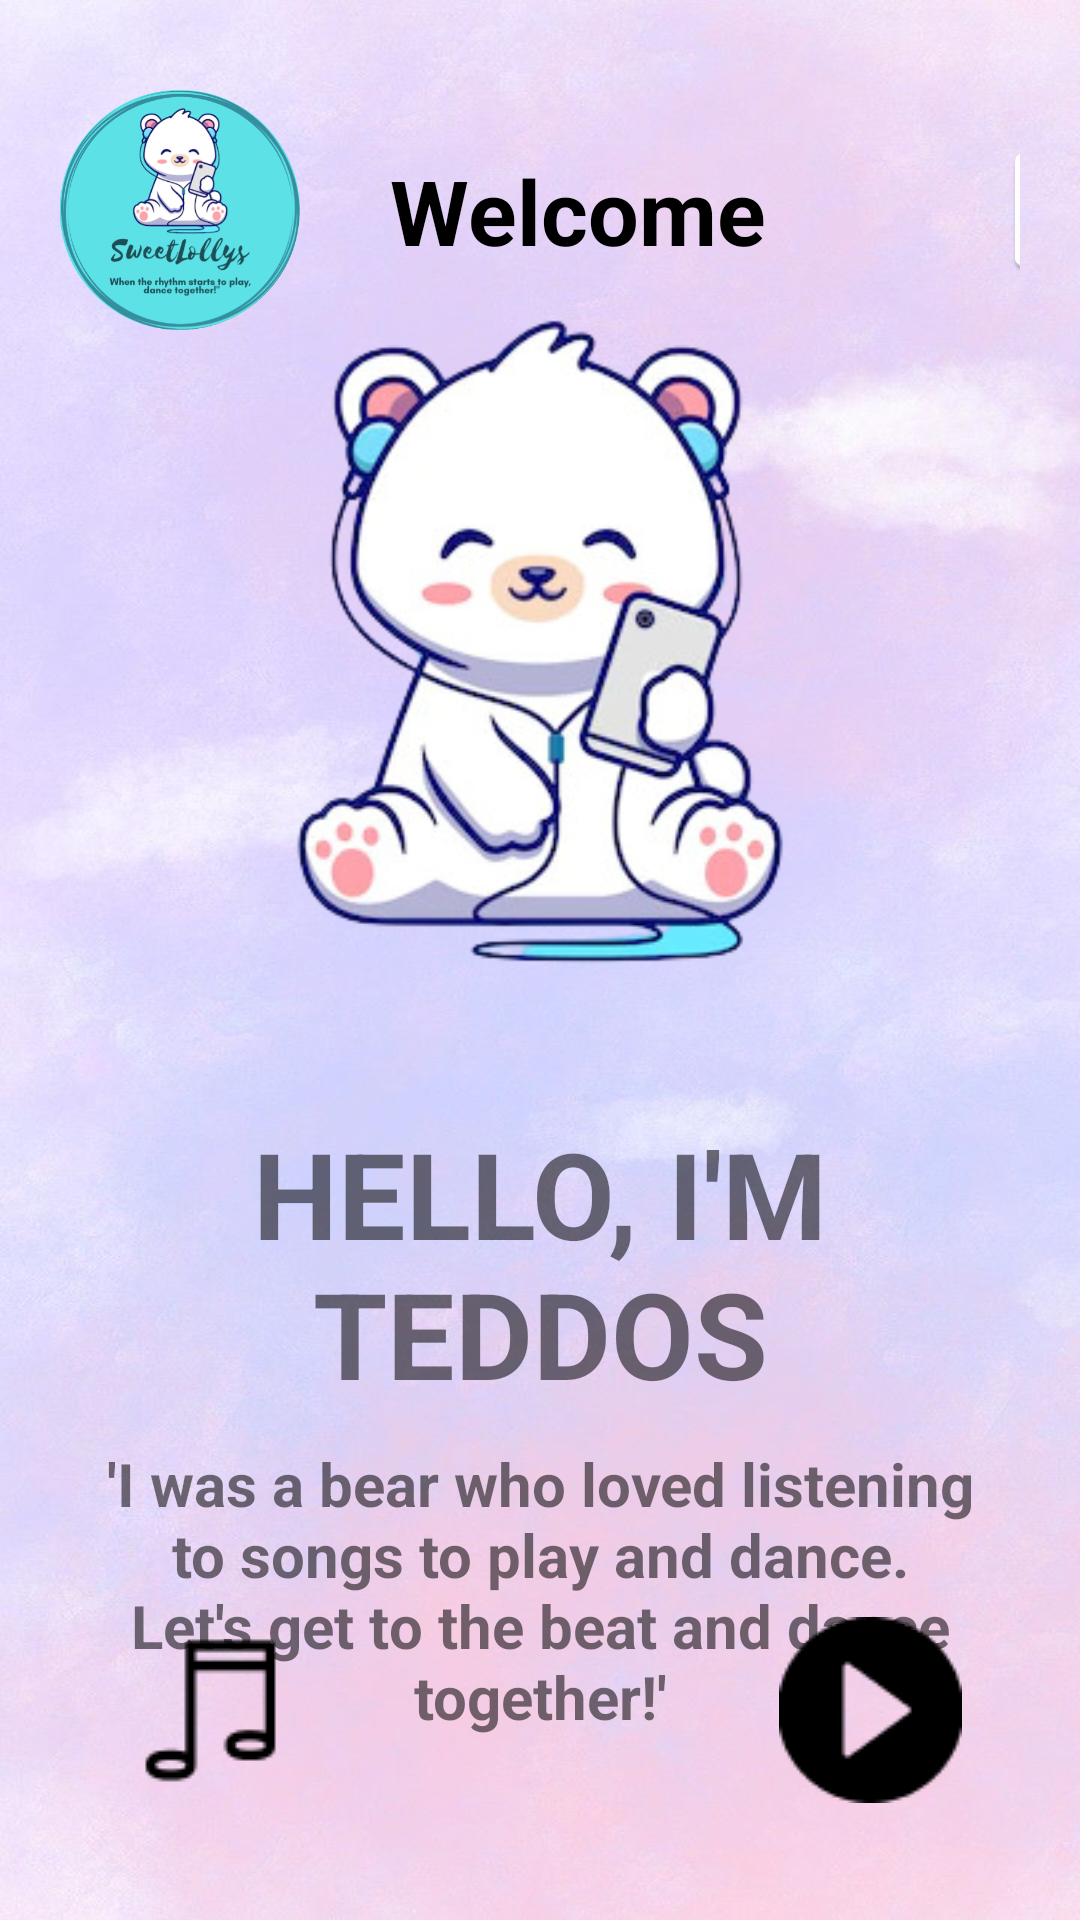

Named icons in this screenshot (1080×1920) and their bounding boxes, bbox=[x1, y1, x2, y2]:
music: bbox=[87, 1604, 354, 1847]
video: bbox=[740, 1569, 962, 1803]
